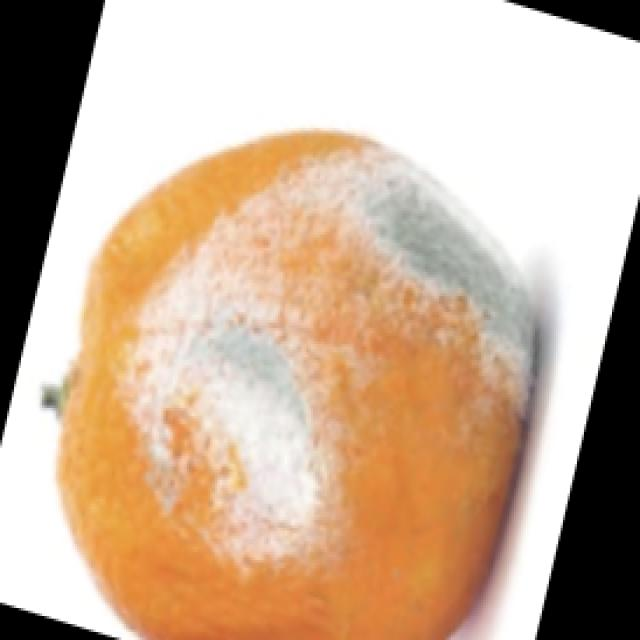sedikit_busuk: (60, 135, 539, 637)
